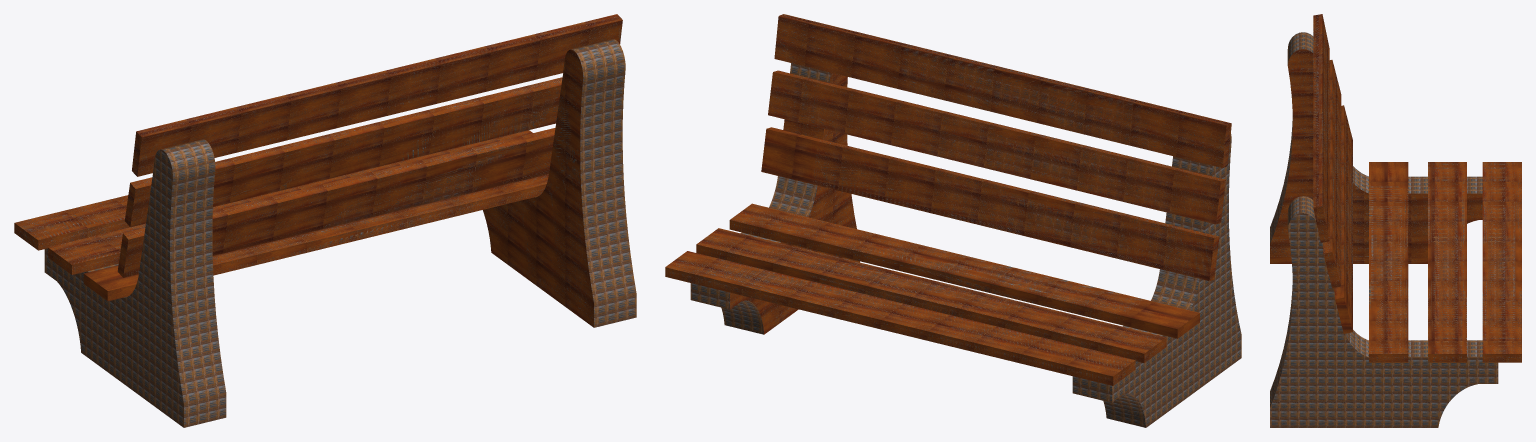
3 views of the same model, side by side, from view 1: azimuth 30°, elevation 25°; view 2: azimuth 150°, elevation 25°; view 3: azimuth 270°, elevation 25° (orthographic). The views are drawn at different scales.
Parts seen in each view (by area): view 1: mesh1_mesh1-geometry; view 2: mesh1_mesh1-geometry; view 3: mesh1_mesh1-geometry.
Boxes of the visible parts, box(x1,y1,x2,y2) form: mesh1_mesh1-geometry: box(14, 14, 636, 427); mesh1_mesh1-geometry: box(665, 14, 1241, 427); mesh1_mesh1-geometry: box(1270, 14, 1521, 427).
Bounding box in the file's own units: 0.7883 × 0.4337 × 0.4364.
